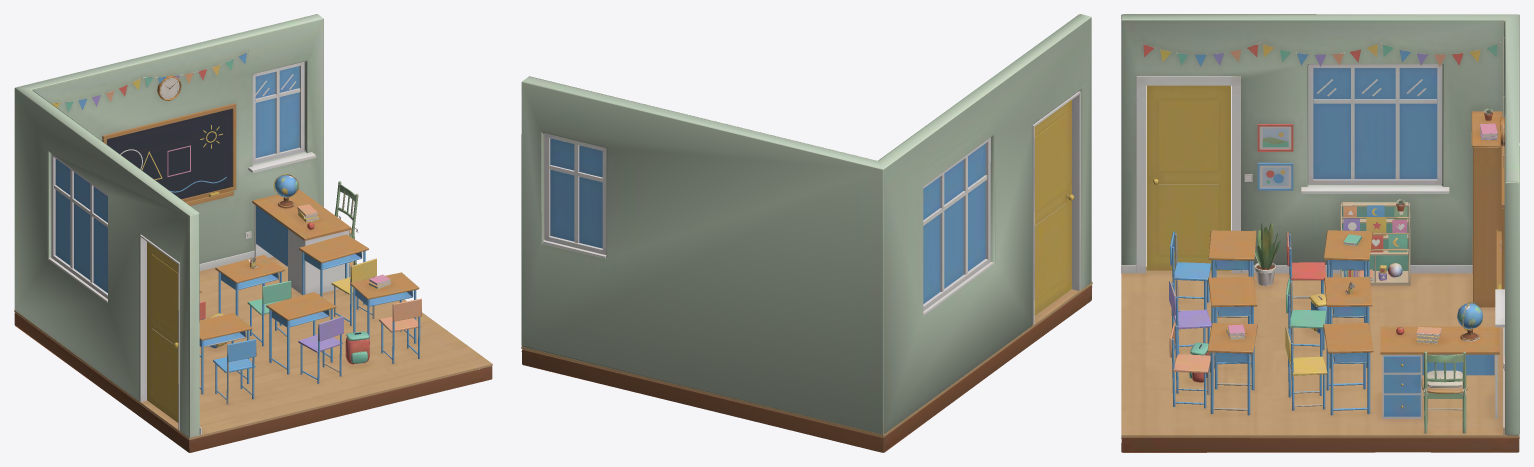
The model's file is classroom-light.fbx.
3 views of the same model, side by side, from view 1: azimuth 30°, elevation 25°; view 2: azimuth 150°, elevation 25°; view 3: azimuth 270°, elevation 25° (orthographic). The views are drawn at different scales.
Parts seen in each view (by area): view 1: classroom_body, classroom_chalkboard_drawing_display; view 2: classroom_body; view 3: classroom_body.
Part boxes in pixels (<box>): classroom_body: <box>14,14,492,452</box>; classroom_chalkboard_drawing_display: <box>120,125,226,192</box>; classroom_body: <box>521,14,1092,452</box>; classroom_body: <box>1121,14,1519,452</box>.
Bounding box in the file's own units: 4 × 3 × 4.
Materials: 5 (1 with a texture image).
